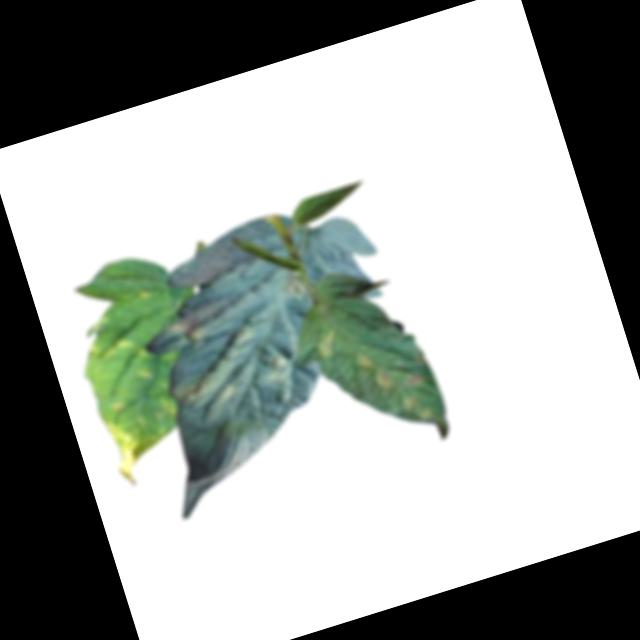Leaf_Mold: (157, 326, 271, 421), (99, 407, 171, 491), (161, 294, 237, 351), (82, 328, 148, 377), (350, 346, 395, 400), (261, 348, 298, 391), (308, 327, 344, 366), (272, 269, 309, 304)
